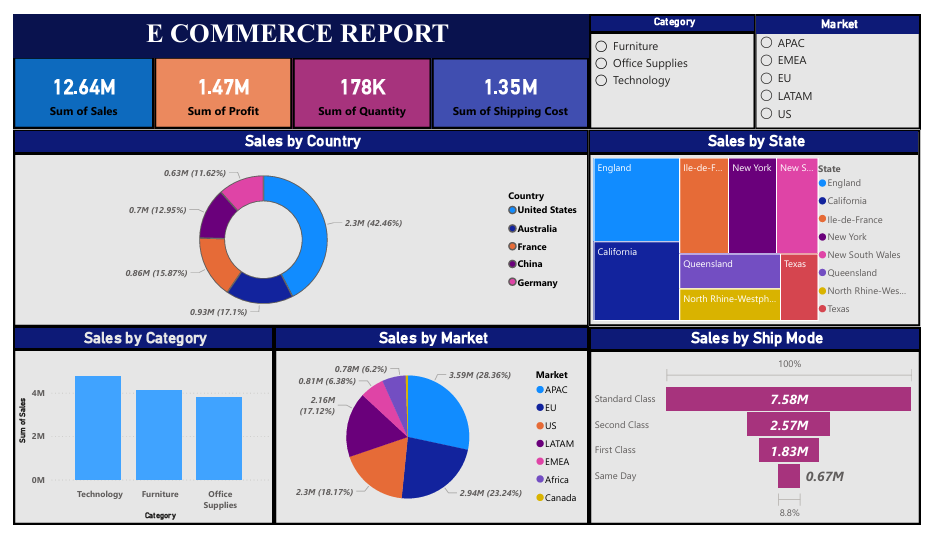

The page's visual inventory and layout, read from the dashboard file:
{"tool":"powerbi","page":{"name":"Page 1","canvas":[1280,720],"ordinal":0},"visuals":[{"type":"columnChart","title":"Sales by Category","fields":{"Category":["Orders.Category"],"Y":["Sum(Orders.Sales)"]},"box":[0,440.5,367.8,279.9],"z":0},{"type":"pieChart","title":"Sales by Market","fields":{"Category":["Orders.Market"],"Y":["Sum(Orders.Sales)"]},"box":[367.8,440.5,444.6,279.9],"z":1000},{"type":"funnel","title":"Sales by Ship Mode","fields":{"Category":["Orders.Ship Mode"],"Y":["Sum(Orders.Sales)"]},"box":[811.6,440.7,468.6,279.1],"z":2000},{"type":"donutChart","title":"Sales by Country","fields":{"Category":["Orders.Country"],"Y":["Sum(Orders.Sales)"]},"box":[0,162.8,811.6,277.9],"z":3000},{"type":"listSlicer","box":[1045.6,0,234.6,163.3],"z":4000},{"type":"listSlicer","fields":{"Values":["Orders.Market"]},"box":[1045.4,0,234.9,162.8],"z":5000},{"type":"listSlicer","fields":{"Values":["Orders.Category"]},"box":[811.6,0,234.9,162.8],"z":6000},{"type":"treemap","title":"Sales by State","fields":{"Values":["Sum(Orders.Sales)"],"Group":["Orders.State"]},"box":[811,163.3,467.9,277.2],"z":7000},{"type":"card","fields":{"Values":["Sum(Orders.Sales)"]},"box":[0,60.1,198.9,101.5],"z":8000},{"type":"card","fields":{"Values":["Sum(Orders.Profit)"]},"box":[198.9,60.1,194.9,101.5],"z":9000},{"type":"card","fields":{"Values":["Sum(Orders.Quantity)"]},"box":[393.8,61.4,196.2,100.1],"z":10000},{"type":"card","fields":{"Values":["Sum(Orders.Shipping Cost)"]},"box":[590.1,61.4,221.6,100.1],"z":11000},{"type":"textbox","box":[0,0,810.6,61],"z":12000}]}

Visuals, with their boxes in screenshot pixels (x1, y1, x2, y2), scaled from the page's 1280x720 canvas onto the 938x535 screenshot:
"Sales by Category" columnChart: pyautogui.locateOnScreen(0, 327, 270, 534)
"Sales by Market" pieChart: pyautogui.locateOnScreen(270, 327, 595, 534)
"Sales by Ship Mode" funnel: pyautogui.locateOnScreen(595, 327, 937, 534)
"Sales by Country" donutChart: pyautogui.locateOnScreen(0, 121, 595, 327)
listSlicer: pyautogui.locateOnScreen(766, 0, 937, 121)
listSlicer - Orders.Market: pyautogui.locateOnScreen(766, 0, 937, 121)
listSlicer - Orders.Category: pyautogui.locateOnScreen(595, 0, 767, 121)
"Sales by State" treemap: pyautogui.locateOnScreen(594, 121, 937, 327)
card - Sum(Orders.Sales): pyautogui.locateOnScreen(0, 45, 146, 120)
card - Sum(Orders.Profit): pyautogui.locateOnScreen(146, 45, 289, 120)
card - Sum(Orders.Quantity): pyautogui.locateOnScreen(289, 46, 432, 120)
card - Sum(Orders.Shipping Cost): pyautogui.locateOnScreen(432, 46, 595, 120)
textbox: pyautogui.locateOnScreen(0, 0, 594, 45)
